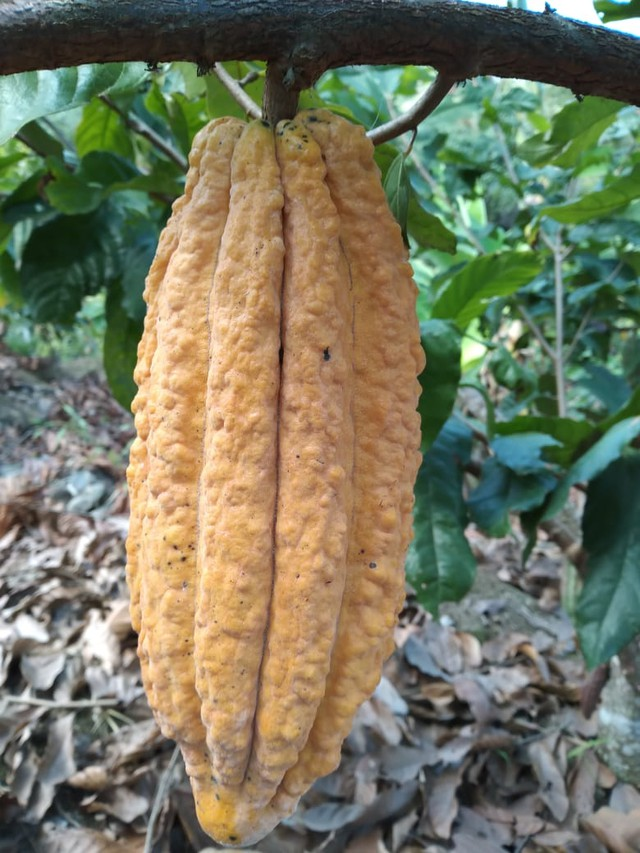Health: (119, 101, 430, 853)
